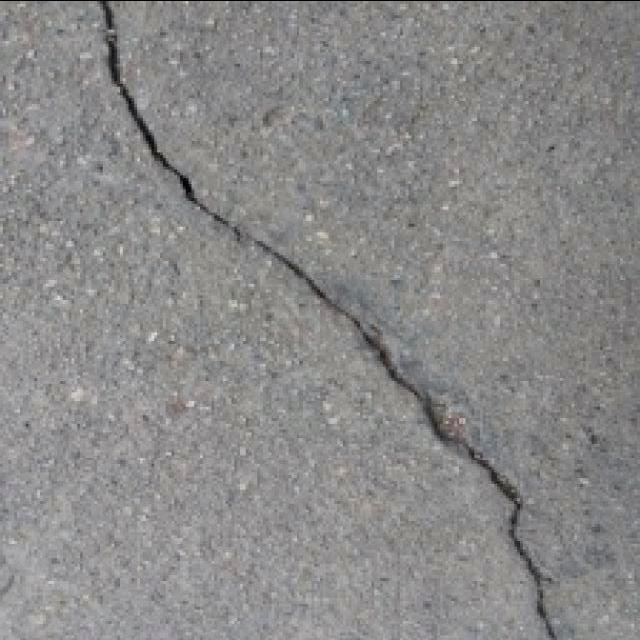SurfaceCrack: (50, 0, 588, 640)
